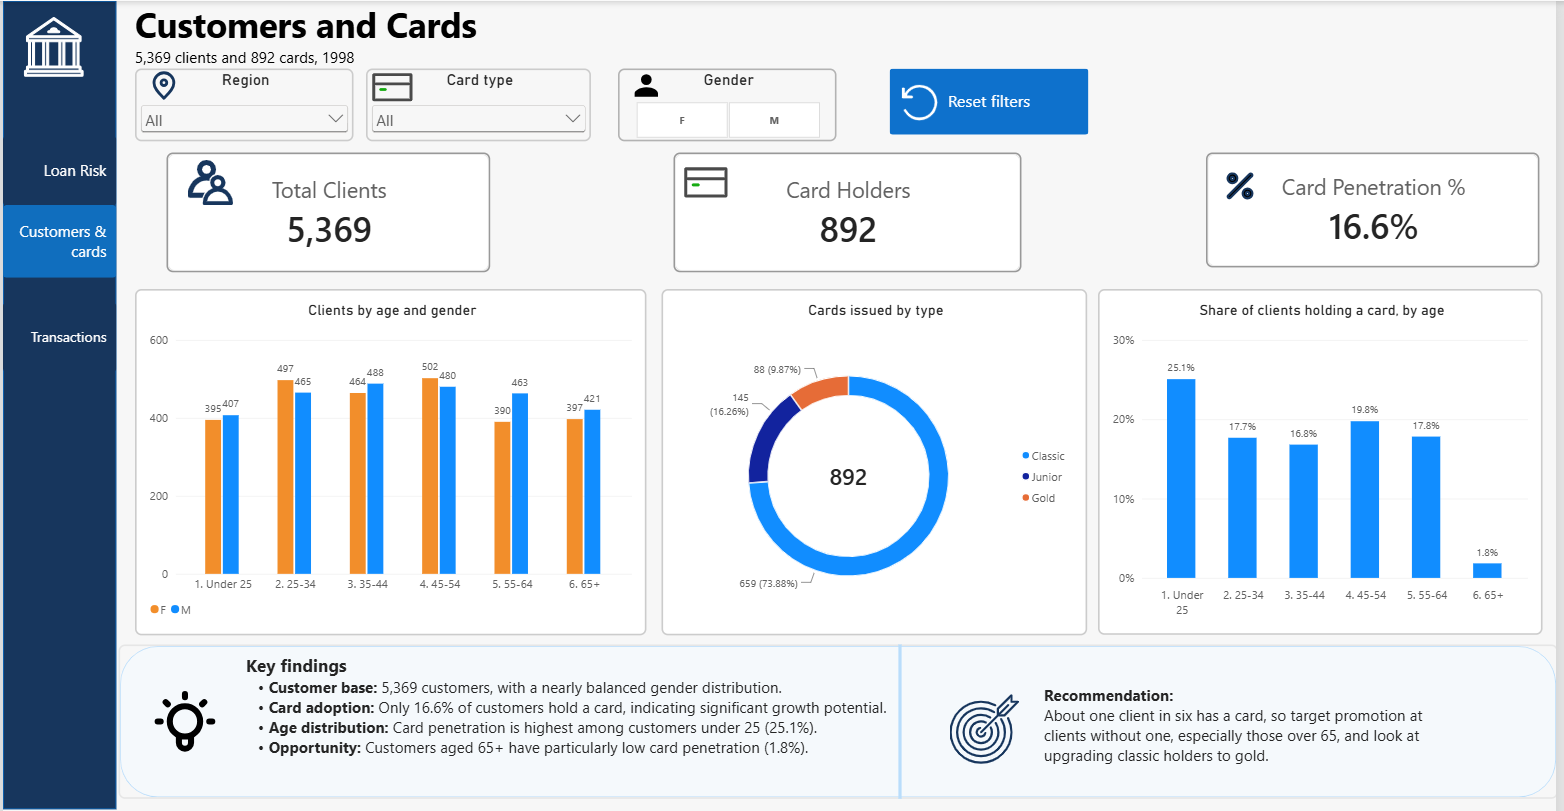

What the dashboard file says about the page in this screenshot:
{"tool":"powerbi","page":{"name":"Customers & cards","canvas":[1920,1080],"ordinal":1},"visuals":[{"type":"cardVisual","fields":{"Data":["customers.Card Holders"]},"box":[829,188,430,148],"z":0},{"type":"cardVisual","fields":{"Data":["customers.Card Penetration %"]},"box":[1486,188,412,142],"z":1000},{"type":"cardVisual","fields":{"Data":["customers.Total Clients"]},"box":[202,188,400,148],"z":2000},{"type":"clusteredColumnChart","title":"Clients by age and gender","fields":{"Category":["customers.age_band"],"Series":["customers.gender"],"Y":["customers.Total Clients"]},"box":[164,356,632,428],"z":3000},{"type":"shape","box":[0,0,140,1000],"z":4000},{"type":"donutChart","title":"Cards issued by type","fields":{"Category":["customers.card_type"],"Y":["customers.Card Holders"]},"box":[814,356,526,428],"z":5000},{"type":"slicer","title":"Region","fields":{"Values":["Regions.region"]},"box":[164,84,270,90],"z":6000},{"type":"shape","box":[142.7,795.2,1778.4,190.8],"z":7000},{"type":"slicer","title":"Gender","fields":{"Values":["customers.gender"]},"box":[760,84,270,90],"z":8000},{"type":"actionButton","box":[1096,84,246,82],"z":9000},{"type":"image","box":[170,846,108,90],"z":10000},{"type":"slicer","title":"Card type","fields":{"Values":["customers.card_type"]},"box":[448,84,278,90],"z":11000},{"type":"clusteredColumnChart","title":"Share of clients holding a card, by age","fields":{"Category":["customers.age_band"],"Y":["customers.Card Penetration %"]},"box":[1353.7,356.6,549.7,427],"z":12000},{"type":"image","box":[8,16,110,80],"z":13000},{"type":"textbox","box":[164,0,688,84],"z":15000},{"type":"textbox","box":[300,806,840,192],"z":16000},{"type":"shape","box":[1047.3,795.2,122.3,190.9],"z":17000},{"type":"image","box":[1170,846,86,108],"z":18000},{"type":"textbox","box":[1286,846,520,108],"z":19000},{"type":"actionButton","box":[0,166,140,86],"z":20000},{"type":"actionButton","box":[0,372,140,86],"z":21000},{"type":"actionButton","box":[0,252,140,90],"z":22000},{"type":"image","box":[170,84,56,42],"z":23000},{"type":"image","box":[760,84,70,42],"z":24000},{"type":"image","box":[454,82,54,50],"z":25000},{"type":"image","box":[226,196,60,56],"z":26000},{"type":"image","box":[842,188,54,74],"z":27000},{"type":"image","box":[1486,196,84,64],"z":28000},{"type":"image","box":[1096,96,74,58],"z":29000}]}

Visuals, with their boxes on the page's 1920x1080 design canvas (x1, y1, x2, y2). These are canvas units, not pixel positions in the 1564x811 screenshot, which may show the page scaled, cropped or inside an application window:
cardVisual - customers.Card Holders: (x1=829, y1=188, x2=1259, y2=336)
cardVisual - customers.Card Penetration %: (x1=1486, y1=188, x2=1898, y2=330)
cardVisual - customers.Total Clients: (x1=202, y1=188, x2=602, y2=336)
"Clients by age and gender" clusteredColumnChart: (x1=164, y1=356, x2=796, y2=784)
shape: (x1=0, y1=0, x2=140, y2=1000)
"Cards issued by type" donutChart: (x1=814, y1=356, x2=1340, y2=784)
"Region" slicer: (x1=164, y1=84, x2=434, y2=174)
shape: (x1=143, y1=795, x2=1921, y2=986)
"Gender" slicer: (x1=760, y1=84, x2=1030, y2=174)
actionButton: (x1=1096, y1=84, x2=1342, y2=166)
image: (x1=170, y1=846, x2=278, y2=936)
"Card type" slicer: (x1=448, y1=84, x2=726, y2=174)
"Share of clients holding a card, by age" clusteredColumnChart: (x1=1354, y1=357, x2=1903, y2=784)
image: (x1=8, y1=16, x2=118, y2=96)
textbox: (x1=164, y1=0, x2=852, y2=84)
textbox: (x1=300, y1=806, x2=1140, y2=998)
shape: (x1=1047, y1=795, x2=1170, y2=986)
image: (x1=1170, y1=846, x2=1256, y2=954)
textbox: (x1=1286, y1=846, x2=1806, y2=954)
actionButton: (x1=0, y1=166, x2=140, y2=252)
actionButton: (x1=0, y1=372, x2=140, y2=458)
actionButton: (x1=0, y1=252, x2=140, y2=342)
image: (x1=170, y1=84, x2=226, y2=126)
image: (x1=760, y1=84, x2=830, y2=126)
image: (x1=454, y1=82, x2=508, y2=132)
image: (x1=226, y1=196, x2=286, y2=252)
image: (x1=842, y1=188, x2=896, y2=262)
image: (x1=1486, y1=196, x2=1570, y2=260)
image: (x1=1096, y1=96, x2=1170, y2=154)
